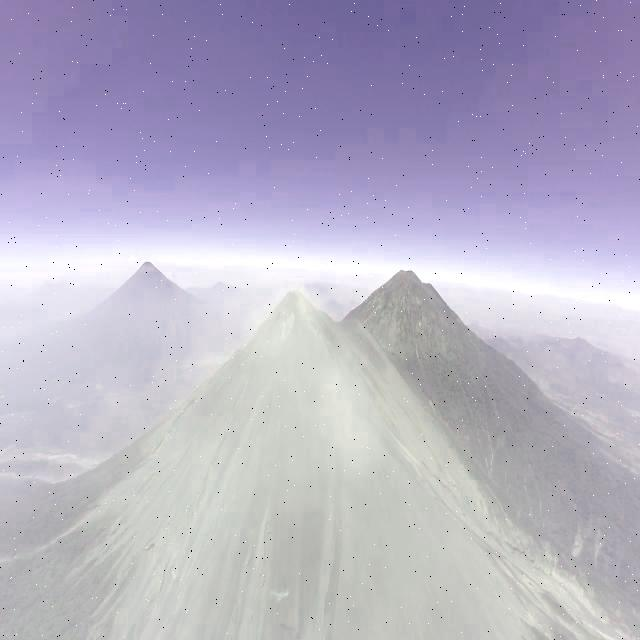Summit: (260, 286, 334, 344)
